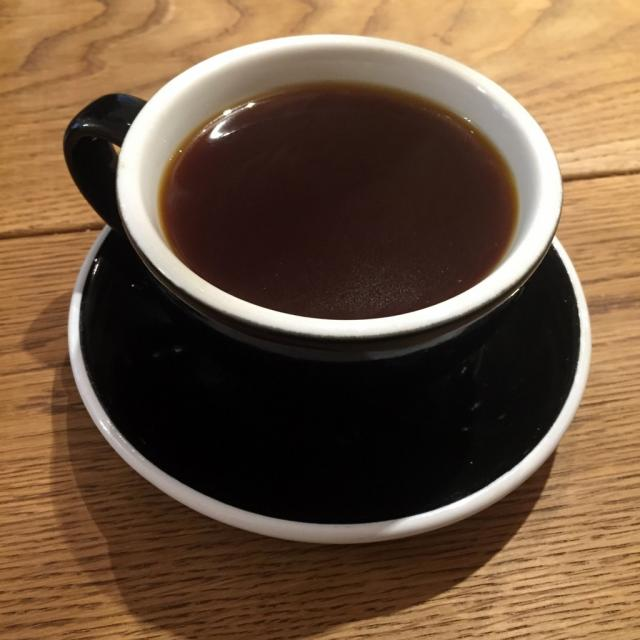Tea: (156, 82, 516, 320)
